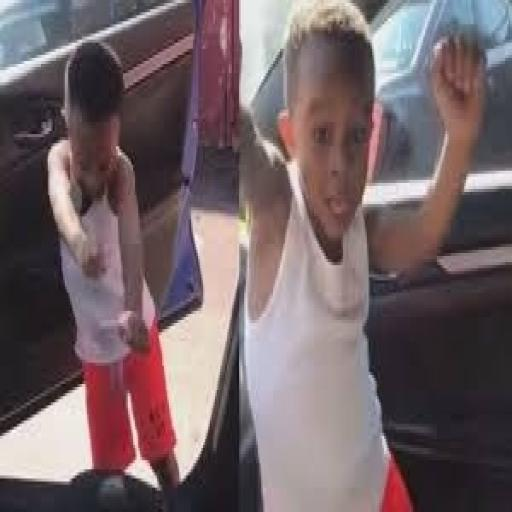dancing: (44, 36, 182, 494)
